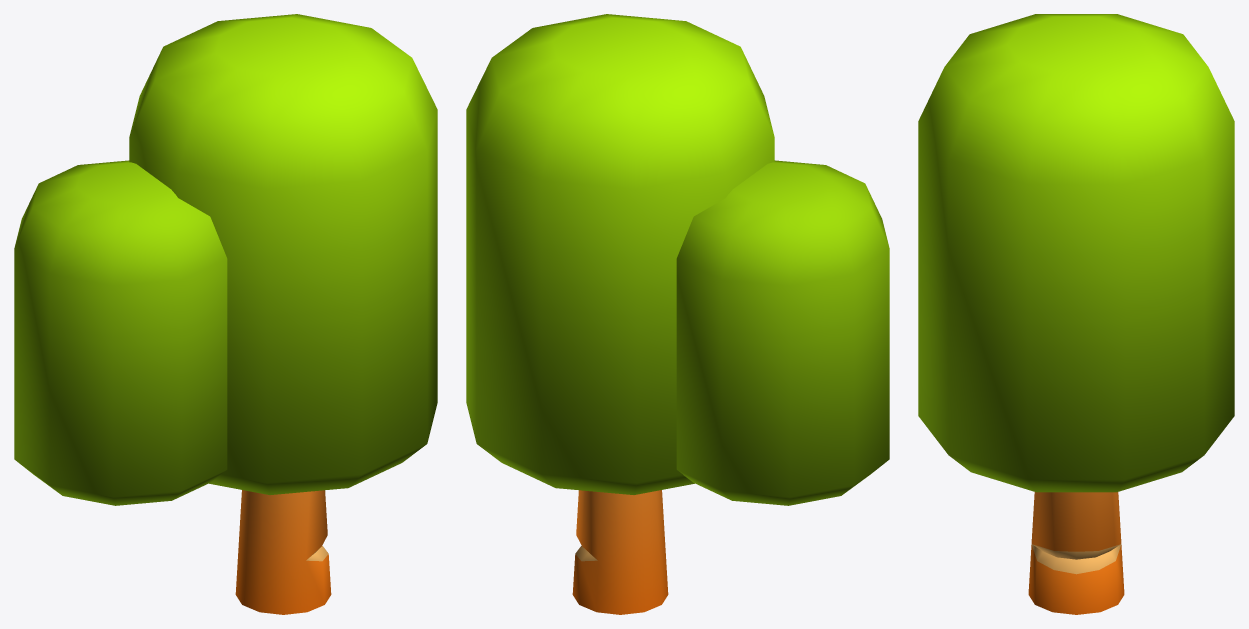
File: Plant_B_Step_02.fbx
The picture shows the model from 3 angles, left to right: view 1: azimuth 30°, elevation 25°; view 2: azimuth 150°, elevation 25°; view 3: azimuth 270°, elevation 25°; orthographic projection.
Visible parts, largest first — view 1: Plant_B_Step_02; view 2: Plant_B_Step_02; view 3: Plant_B_Step_02.
Part boxes in pixels (x1,y1,x2,y2): Plant_B_Step_02: [14, 14, 437, 614]; Plant_B_Step_02: [466, 14, 889, 614]; Plant_B_Step_02: [918, 14, 1234, 614].
Bounding box in the file's own units: 596 × 818 × 426.
